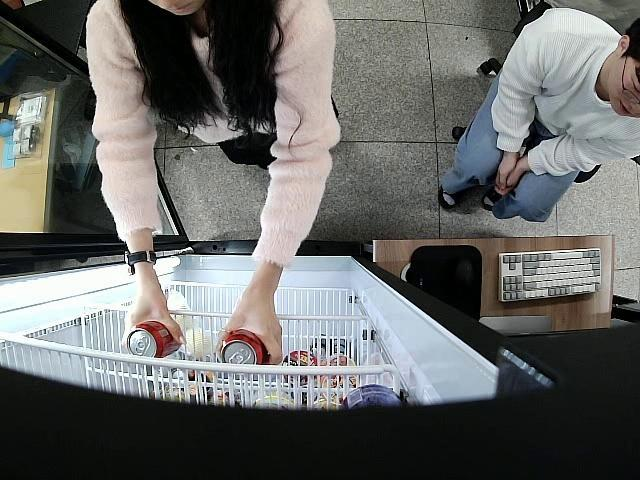11_cocaColaZero: (126, 320, 180, 360), (221, 330, 268, 369)
